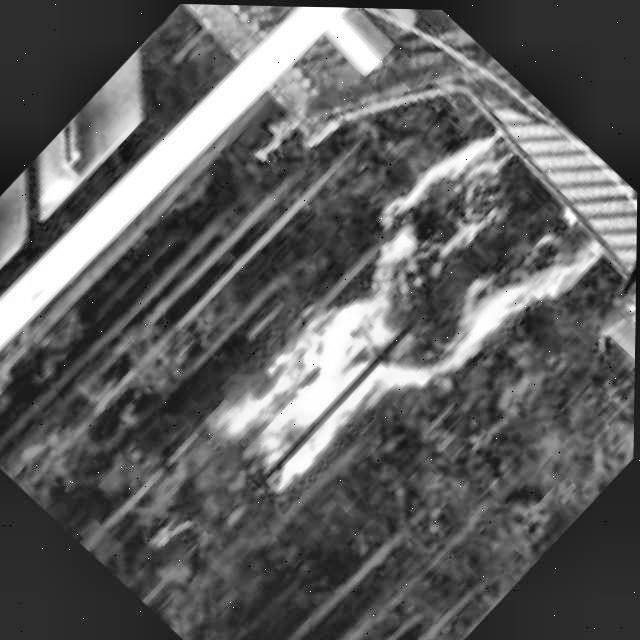Fire: (175, 90, 619, 554)
